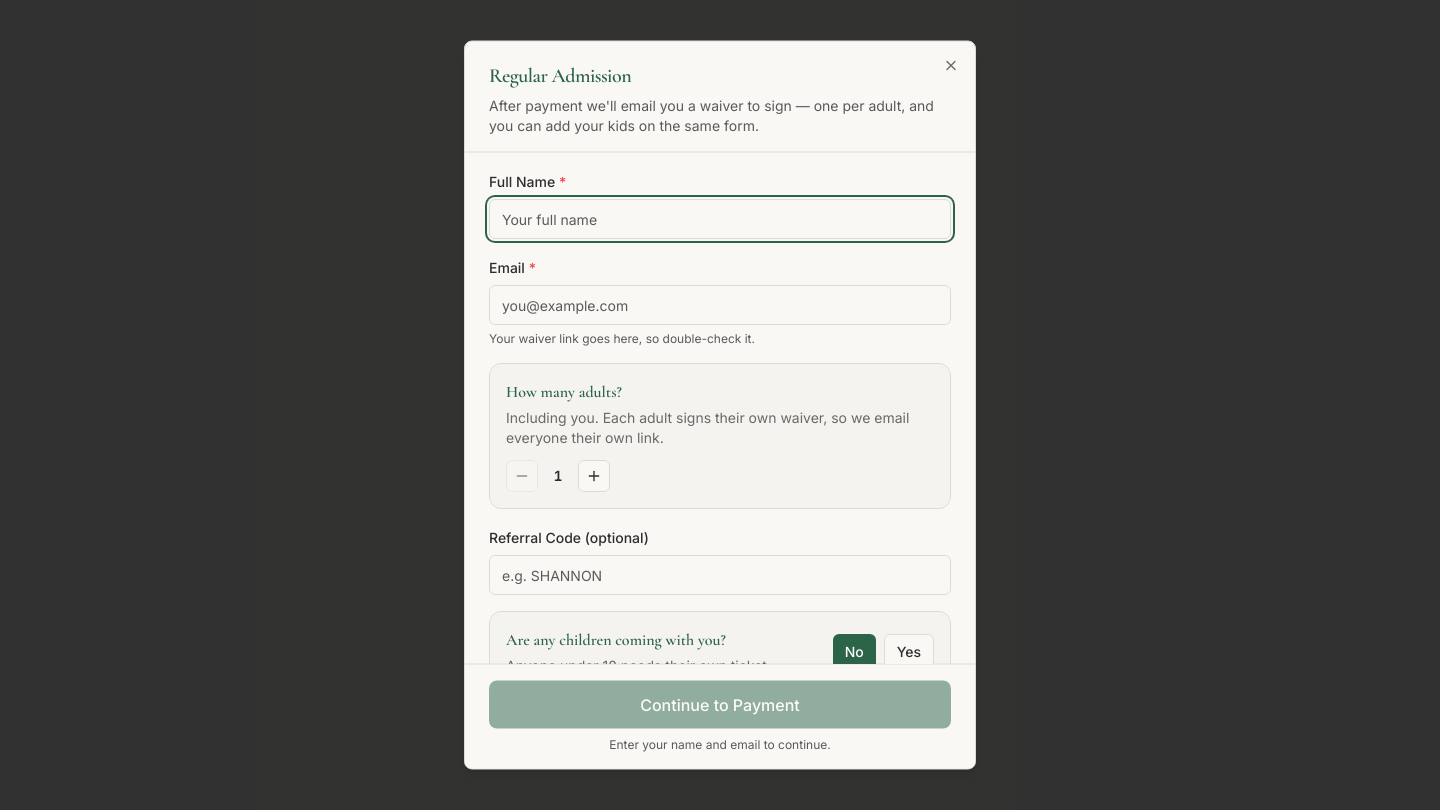
youth section is hidden until asked for › reveals the counters when Yes is chosen
Click the button with test id "minors-yes" at (909, 652), box [884, 634, 934, 670]
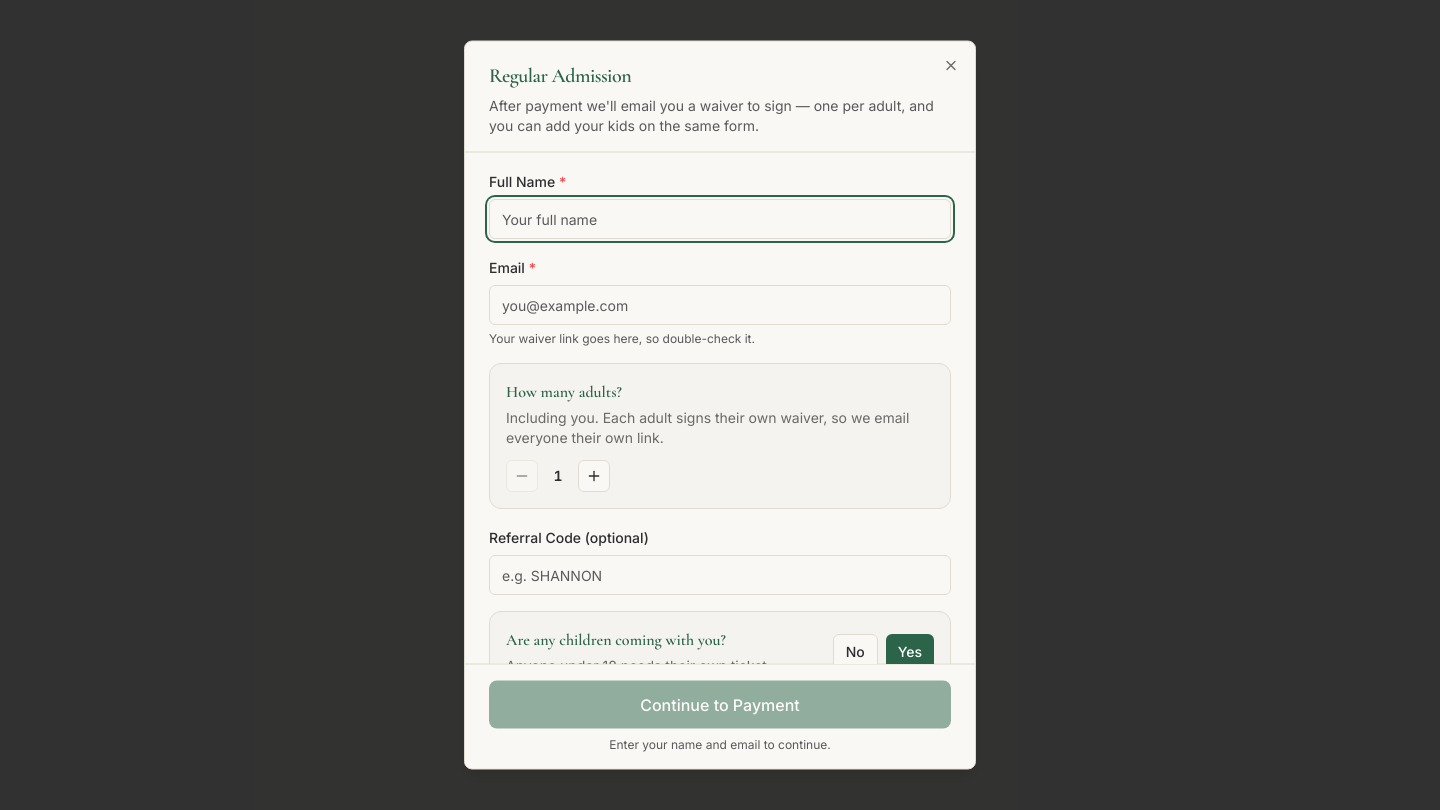
Expected: the button with test id "minors-yes" is pressed, [886, 634, 934, 664]
